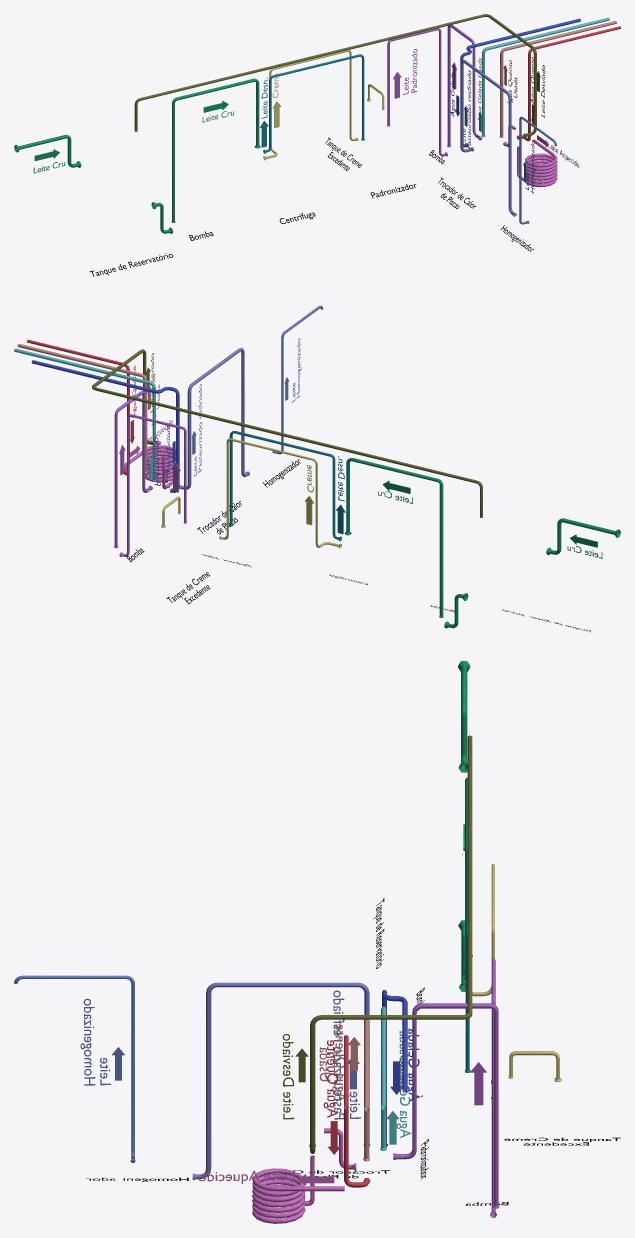
Rendered from MLP_Canos_Descricao_PTBR.glb.
The picture shows the model from 3 angles, top to bottom: view 1: azimuth 30°, elevation 25°; view 2: azimuth 150°, elevation 25°; view 3: azimuth 270°, elevation 25°; orthographic projection. The views are drawn at different scales.
Parts seen in each view (by area): view 1: Circle.020, Circle.003, Circle.015, Circle.005, Circle.011, Circle.009, Circle.006, Circle.012, Circle.014, Circle.013, Circle.007, Circle.016 (+2 smaller); view 2: Circle.020, Circle.005, Circle.015, Circle.011, Circle.006, Circle.007, Circle.016, Circle.009, Circle.014, Circle.003, Circle.012, Circle.013 (+2 smaller); view 3: Circle.020, Circle.003, Circle.015, Circle.011, Circle.018, Circle.009, Circle.013, Circle.012, Circle.016, Circle.014, Circle.017.
Boxes of the visible parts, <box> form: Circle.020: <box>134,14,536,137</box>; Circle.003: <box>517,139,557,187</box>; Circle.015: <box>460,59,516,216</box>; Circle.005: <box>171,78,260,222</box>; Circle.011: <box>447,24,482,147</box>; Circle.009: <box>387,28,447,156</box>; Circle.006: <box>263,54,364,153</box>; Circle.012: <box>499,21,616,137</box>; Circle.014: <box>481,17,609,137</box>; Circle.013: <box>516,26,620,141</box>; Circle.007: <box>263,50,358,160</box>; Circle.016: <box>460,18,580,147</box>; Circle.020: <box>92,349,482,517</box>; Circle.005: <box>344,458,443,617</box>; Circle.015: <box>179,347,249,489</box>; Circle.011: <box>114,391,152,548</box>; Circle.006: <box>229,431,341,541</box>; Circle.007: <box>219,438,341,548</box>; Circle.016: <box>31,360,179,492</box>; Circle.009: <box>119,414,186,556</box>; Circle.014: <box>14,348,156,481</box>; Circle.003: <box>124,445,175,489</box>; Circle.012: <box>17,344,147,473</box>; Circle.013: <box>27,339,129,475</box>; Circle.020: <box>309,735,472,1153</box>; Circle.003: <box>252,1155,344,1223</box>; Circle.015: <box>192,982,370,1179</box>; Circle.011: <box>393,1003,499,1208</box>; Circle.018: <box>14,975,135,1162</box>; Circle.009: <box>490,958,496,1217</box>; Circle.013: <box>344,1035,370,1187</box>; Circle.012: <box>363,1019,369,1161</box>; Circle.016: <box>382,990,407,1147</box>; Circle.014: <box>380,1006,386,1150</box>; Circle.017: <box>458,661,470,772</box>.
Size of the model in its own units: 14.3 by 3.41 by 8.01.
